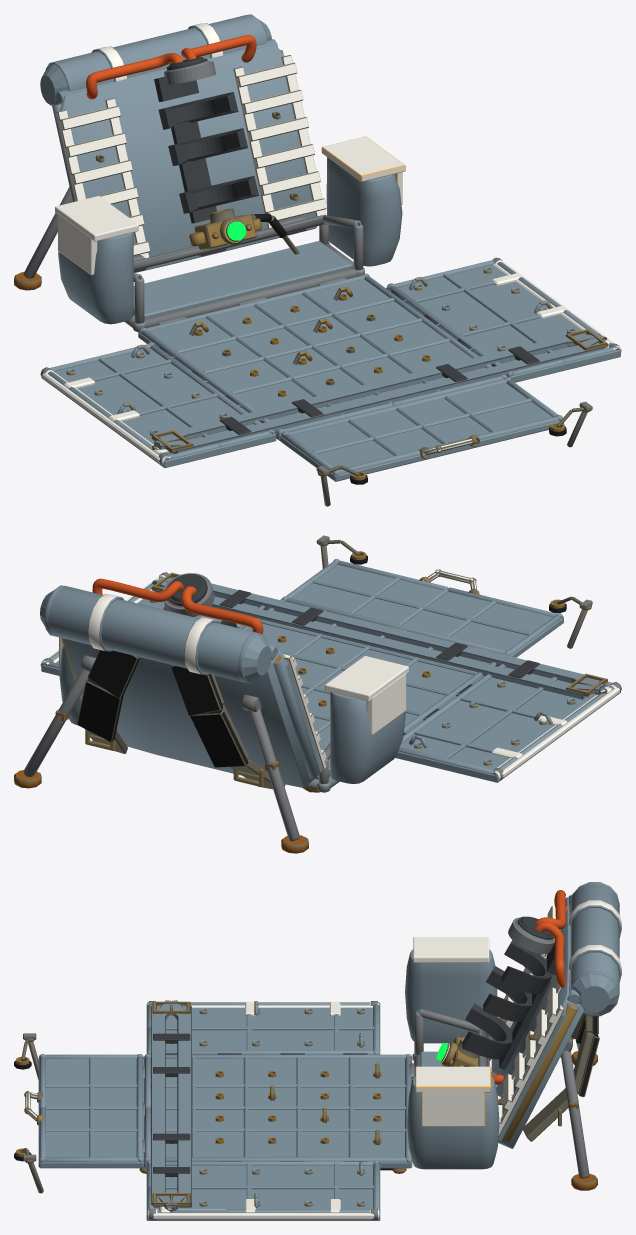
The model's file is expedition_rig.fbx.
3 views of the same model, one above another, from view 1: azimuth 30°, elevation 25°; view 2: azimuth 150°, elevation 25°; view 3: azimuth 270°, elevation 25° (orthographic). The views are drawn at different scales.
Visible parts, largest first — view 1: Mesh_Rig_FrontLeaf, Mesh_Rig_BackPanel, Mesh_Rig_Lid, Mesh_Rig_Frame, Mesh_Rig_Wing_L, Mesh_Rig_Wing_R, Mesh_Rig_LashRail, Mesh_Rig_BackWebbing_R, Mesh_Rig_SidePouch_R, Mesh_Rig_Bedroll, Mesh_Rig_BackWebbing_L, Mesh_Rig_SidePouch_L (+16 smaller); view 2: Mesh_Rig_BackPanel, Mesh_Rig_Lid, Mesh_Rig_Wing_L, Mesh_Rig_Bedroll, Mesh_Rig_LashRail, Mesh_Rig_FrontLeaf, Mesh_Rig_SidePouch_L, Mesh_Rig_Harness_L, Mesh_Rig_Harness_R, Mesh_Rig_SidePouchFlap_L, Mesh_Rig_Kickstand_L, Mesh_Rig_Kickstand_R (+12 smaller); view 3: Mesh_Rig_FrontLeaf, Mesh_Rig_Lid, Mesh_Rig_Wing_R, Mesh_Rig_Wing_L, Mesh_Rig_LashRail, Mesh_Rig_SidePouch_L, Mesh_Rig_Bedroll, Mesh_Rig_BackPanel, Mesh_Rig_SidePouch_R, Mesh_Rig_SidePouchFlap_R, Mesh_Rig_BackWebbing_R, Mesh_Rig_Harness_R (+15 smaller).
Part boxes in pixels (x1,y1,x2,y2): Mesh_Rig_FrontLeaf: (138, 273, 507, 440); Mesh_Rig_BackPanel: (52, 39, 316, 272); Mesh_Rig_Lid: (280, 377, 563, 481); Mesh_Rig_Frame: (124, 215, 364, 332); Mesh_Rig_Wing_L: (41, 342, 276, 467); Mesh_Rig_Wing_R: (386, 258, 620, 382); Mesh_Rig_LashRail: (151, 329, 607, 453); Mesh_Rig_BackWebbing_R: (233, 55, 326, 228); Mesh_Rig_SidePouch_R: (326, 157, 402, 266); Mesh_Rig_Bedroll: (40, 14, 271, 105); Mesh_Rig_BackWebbing_L: (56, 98, 150, 258); Mesh_Rig_SidePouch_L: (58, 232, 133, 324); Mesh_Rig_BackPanel: (61, 638, 322, 788); Mesh_Rig_Lid: (281, 559, 563, 657); Mesh_Rig_Wing_L: (395, 664, 620, 782); Mesh_Rig_Bedroll: (40, 585, 271, 683); Mesh_Rig_LashRail: (151, 572, 607, 699); Mesh_Rig_FrontLeaf: (241, 599, 506, 745); Mesh_Rig_SidePouch_L: (330, 692, 405, 783); Mesh_Rig_Harness_L: (170, 665, 285, 789); Mesh_Rig_Harness_R: (77, 650, 140, 753); Mesh_Rig_SidePouchFlap_L: (325, 656, 408, 734); Mesh_Rig_Kickstand_L: (241, 694, 308, 853); Mesh_Rig_Kickstand_R: (14, 655, 95, 788); Mesh_Rig_FrontLeaf: (144, 1054, 412, 1168); Mesh_Rig_Lid: (38, 1054, 144, 1168); Mesh_Rig_Wing_R: (146, 1160, 380, 1220); Mesh_Rig_Wing_L: (146, 1001, 380, 1054); Mesh_Rig_LashRail: (151, 1000, 191, 1212); Mesh_Rig_SidePouch_L: (405, 949, 497, 1043); Mesh_Rig_Bedroll: (571, 882, 619, 1016); Mesh_Rig_BackPanel: (491, 895, 583, 1148); Mesh_Rig_SidePouch_R: (407, 1076, 499, 1169); Mesh_Rig_SidePouchFlap_R: (415, 1066, 491, 1126); Mesh_Rig_BackWebbing_R: (497, 985, 563, 1137); Mesh_Rig_Harness_R: (523, 1014, 599, 1141).
Bounding box in the file's own units: 181 × 86.47 × 219.
